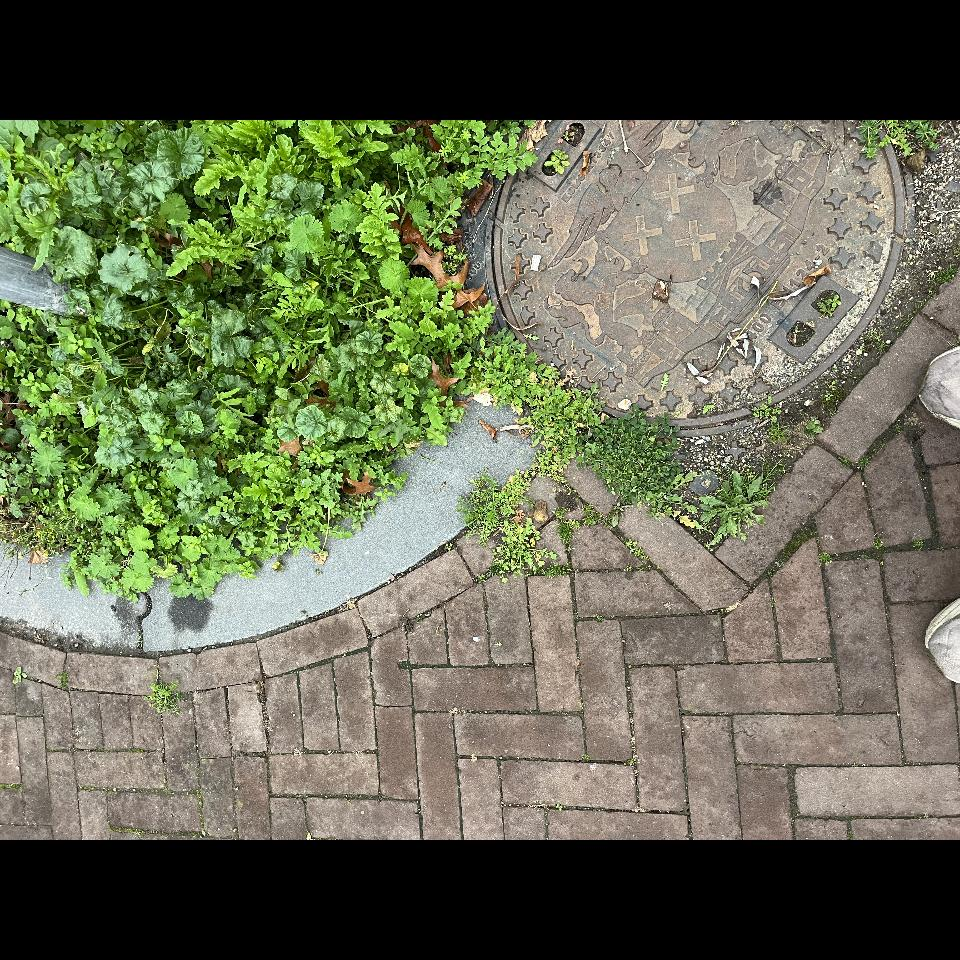weed: (263, 577, 393, 699), (262, 608, 320, 677), (127, 265, 159, 302), (4, 231, 12, 270), (156, 132, 173, 150), (274, 938, 288, 958), (151, 175, 169, 189), (50, 120, 60, 142), (2, 293, 6, 317), (3, 277, 6, 290)
